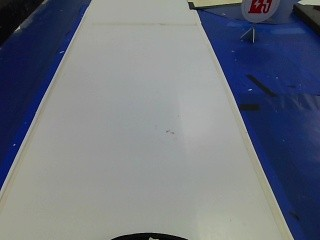battery: (243, 0, 277, 21)
